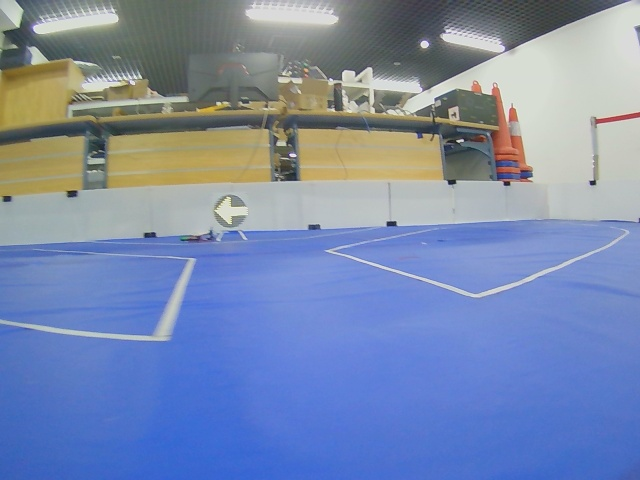left_yellow: (213, 195, 249, 228)
